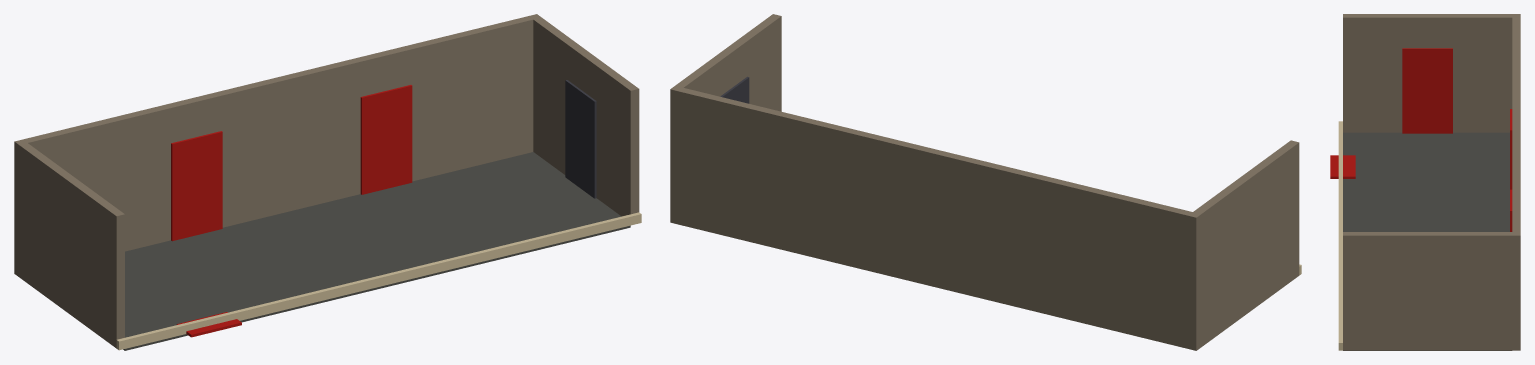
The model's file is corridor_b.obj.
3 views of the same model, side by side, from view 1: azimuth 30°, elevation 25°; view 2: azimuth 150°, elevation 25°; view 3: azimuth 270°, elevation 25° (orthographic). The views are drawn at different scales.
Size of the model in its own units: 12.4 by 3.1 by 4.5.
